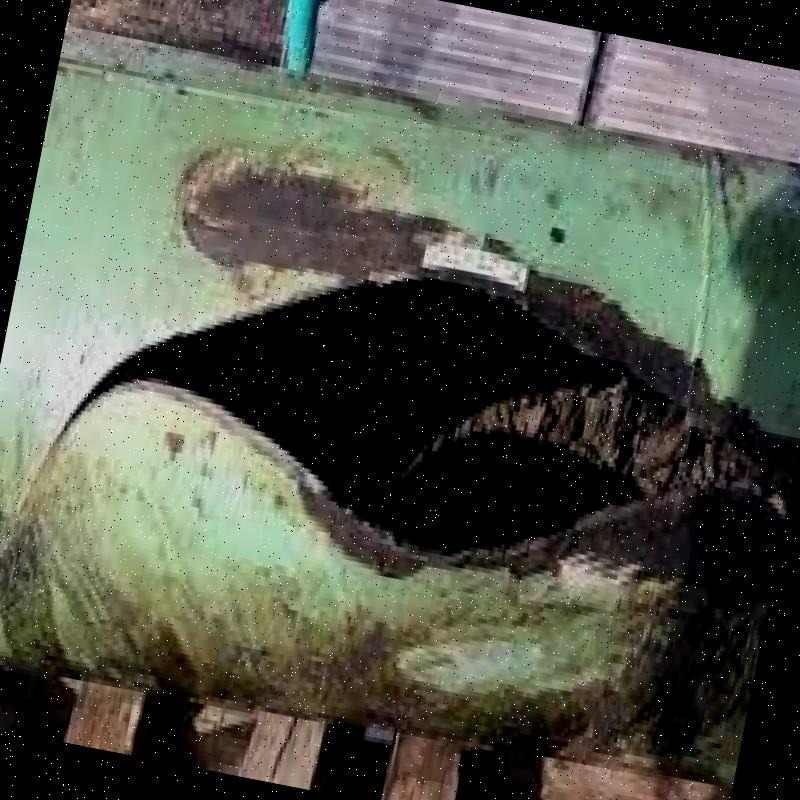Fracture: (17, 159, 800, 688)
